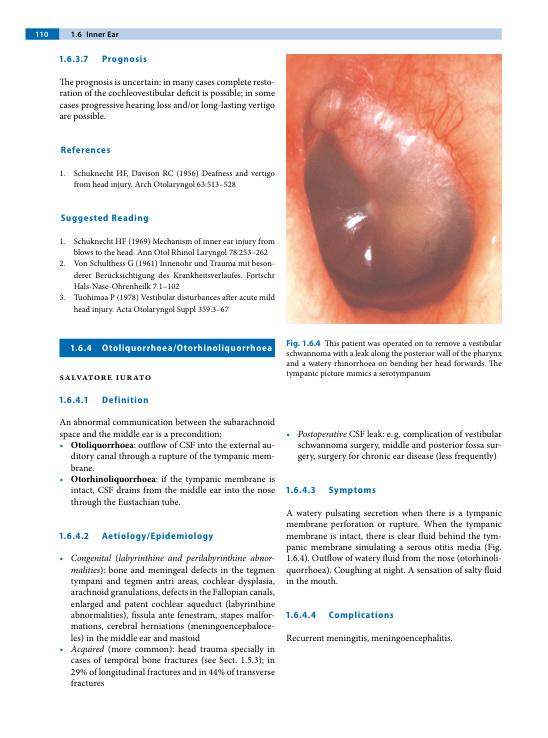caption: (285, 339, 503, 379)
header: (85, 30, 120, 38)
image: (285, 53, 502, 324)
list: (58, 553, 277, 689), (58, 237, 276, 315), (59, 440, 276, 509), (284, 428, 504, 464), (59, 168, 276, 190)
section-heading: (101, 343, 273, 354)
sub-section-heading: (100, 531, 214, 542), (60, 213, 150, 224), (327, 610, 395, 621), (328, 485, 377, 497), (100, 53, 148, 65), (60, 144, 111, 154), (101, 395, 149, 404)
text: (285, 508, 504, 586), (58, 76, 276, 122), (59, 417, 276, 440), (285, 632, 453, 645)
